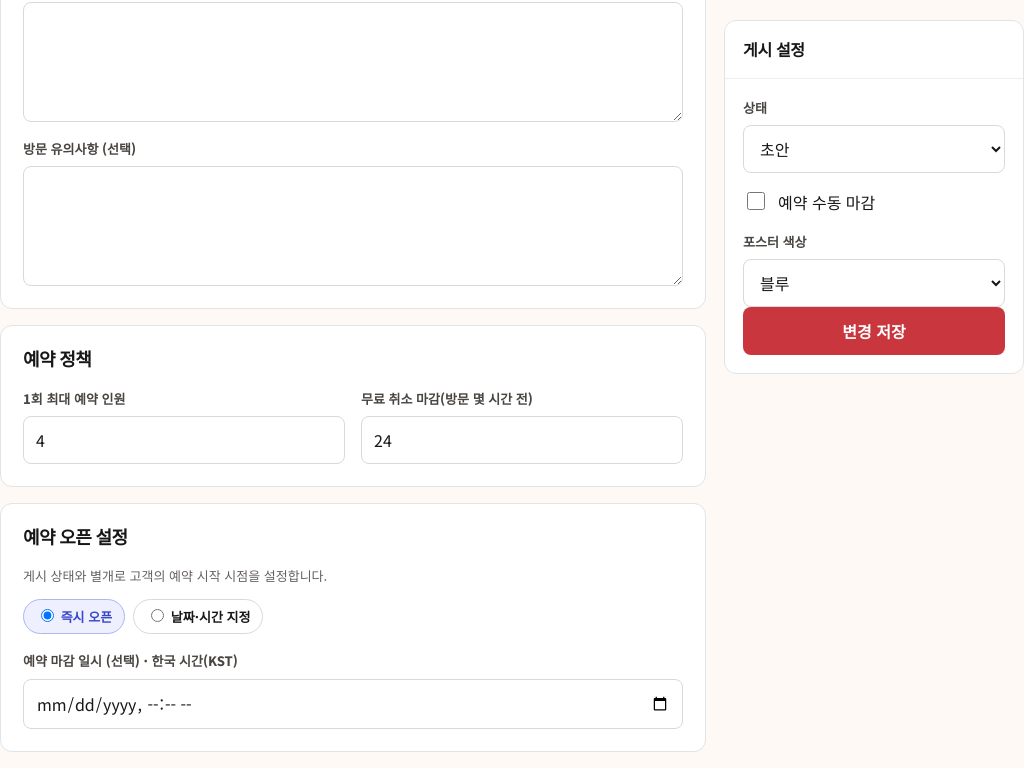
Test: toggling the open mode shows the KST datetime field only when scheduled
(page scrolled)
Expected: the field labelled "예약 오픈 일시 · 한국 시간(KST)" is not shown
Click the radio button labelled "날짜·시간 지정".
click(158, 616)  # box 151,609 -> 164,622
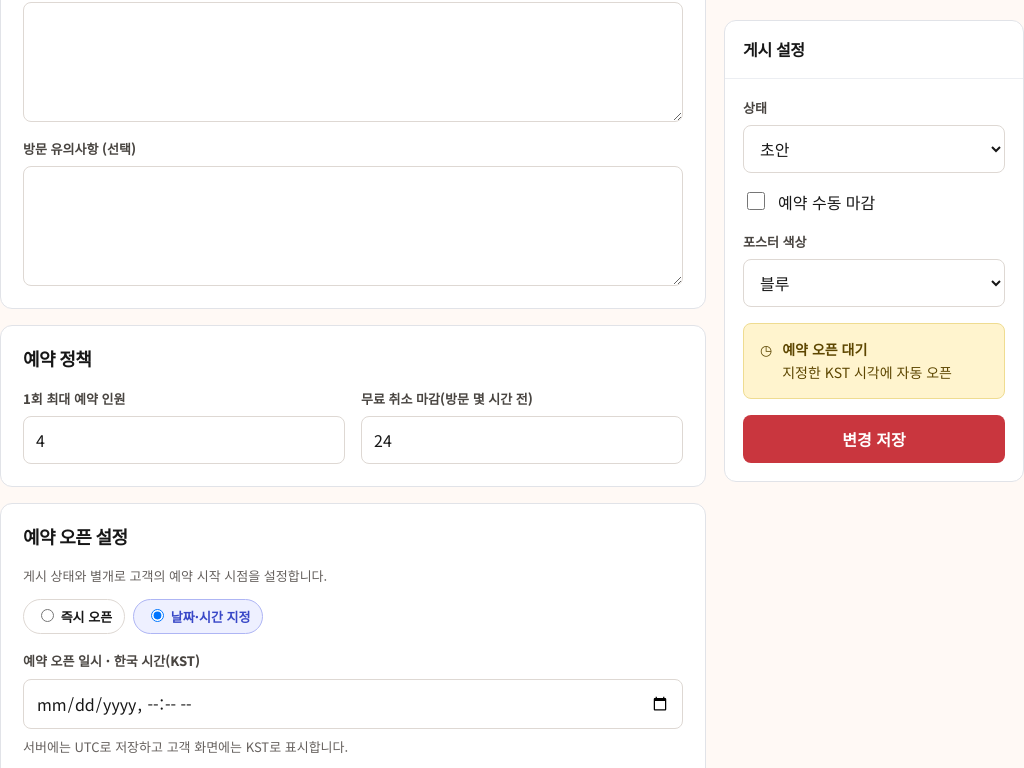
Expected: the field labelled "예약 오픈 일시 · 한국 시간(KST)" is shown, 23,679 -> 683,729
Click the radio button labelled "즉시 오픈".
click(48, 616)  # box 41,609 -> 54,622
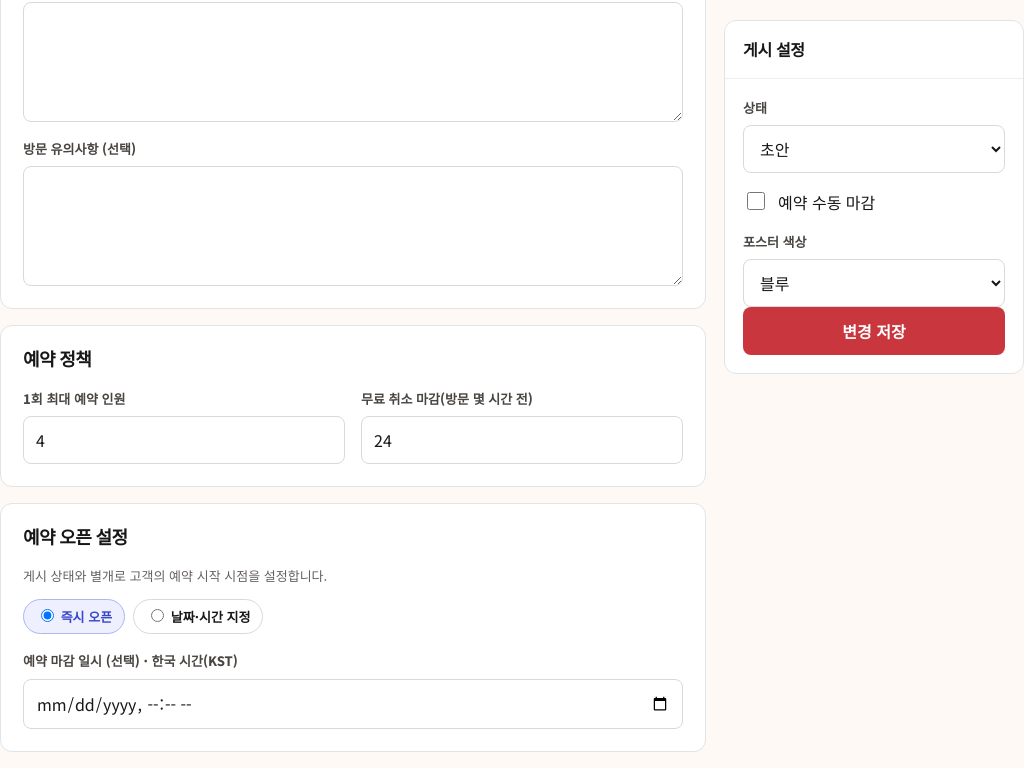
Expected: the label labelled "예약 오픈 일시 · 한국 시간(KST)" is gone
